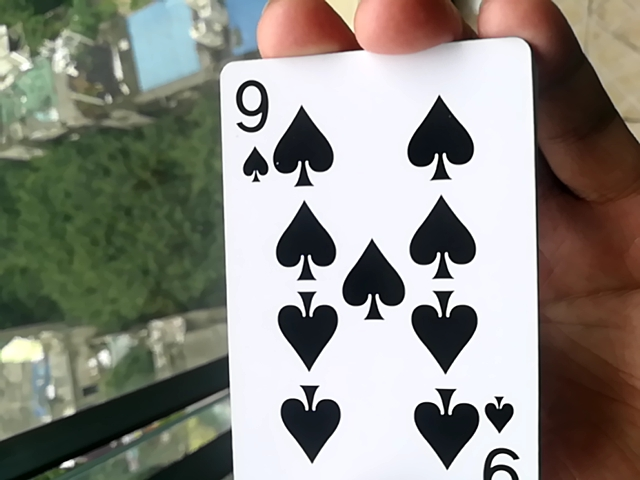ht 9: (211, 33, 538, 479)
